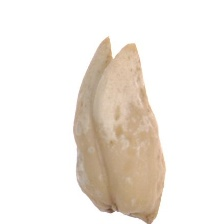L1: (101, 35, 135, 71), (101, 201, 149, 224)
L2: (73, 36, 166, 223)
